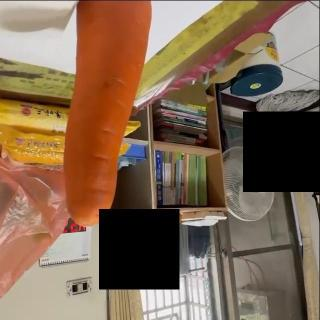carrot: (65, 0, 154, 225)
